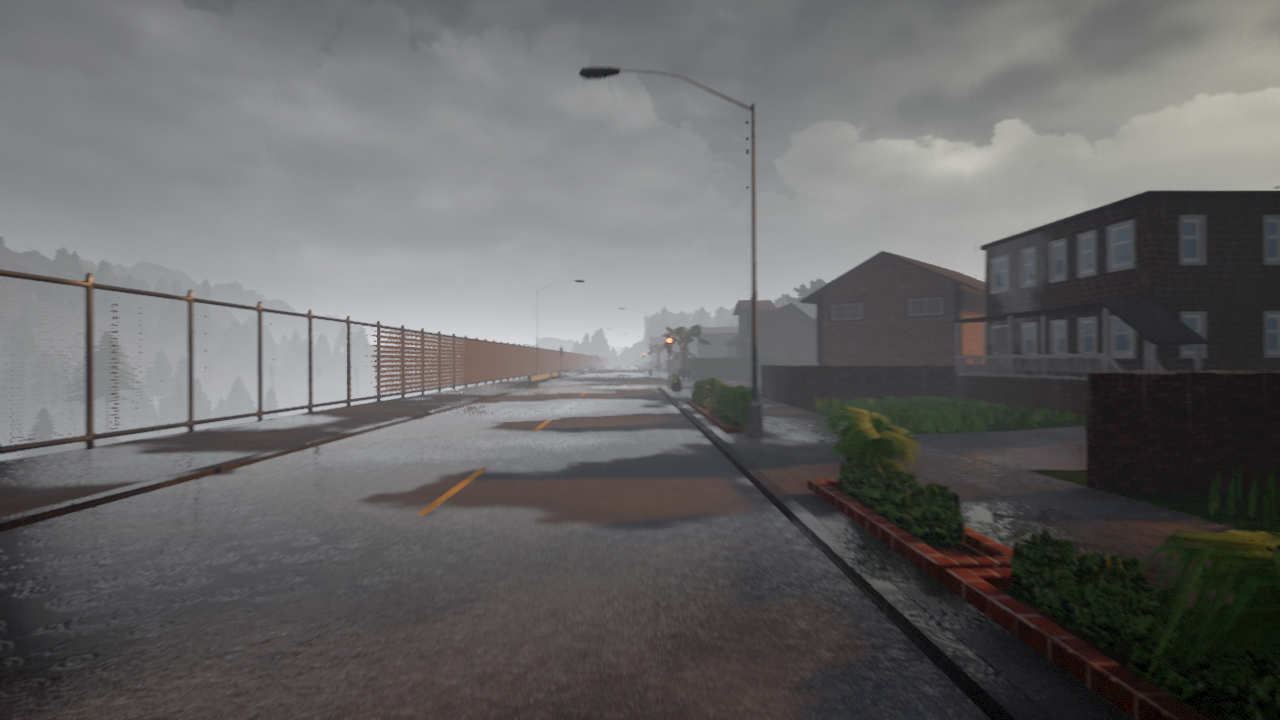red: (665, 335, 673, 354)
